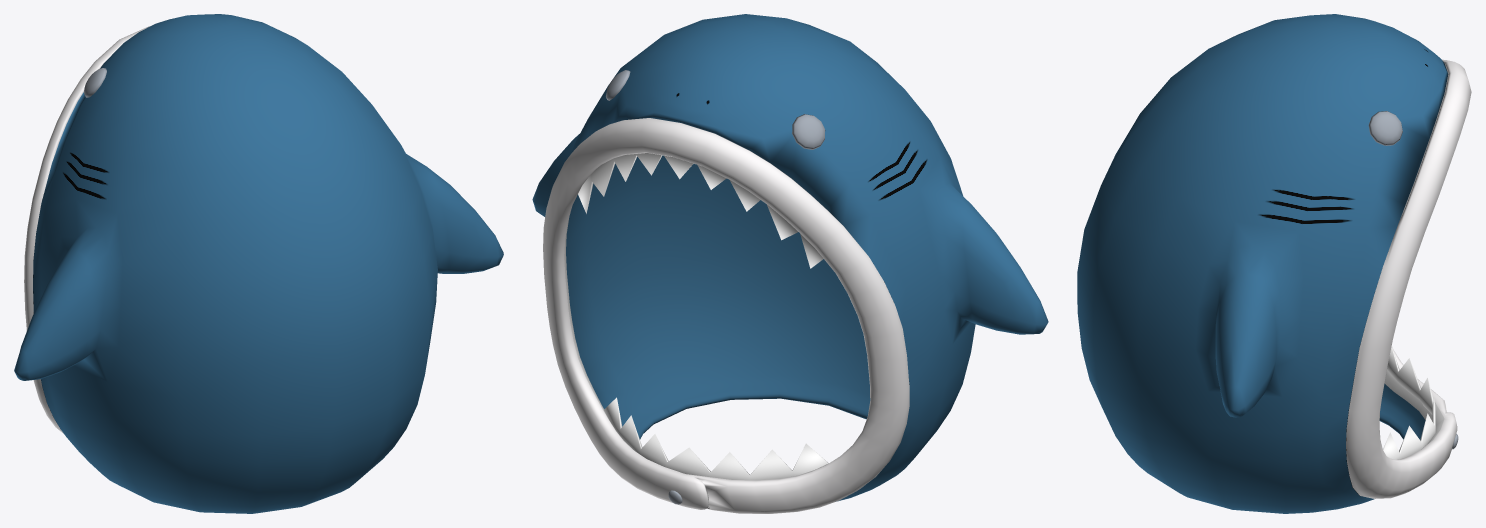
The model's file is tiburon.obj.
The picture shows the model from 3 angles, left to right: view 1: azimuth 30°, elevation 25°; view 2: azimuth 150°, elevation 25°; view 3: azimuth 270°, elevation 25°; orthographic projection. The views are drawn at different scales.
Parts seen in each view (by area): view 1: hood:Mesh; view 2: hood:Mesh; view 3: hood:Mesh.
Boxes of the visible parts, x1=… form: hood:Mesh: x1=14, y1=14, x2=503, y2=513; hood:Mesh: x1=532, y1=14, x2=1048, y2=513; hood:Mesh: x1=1077, y1=14, x2=1471, y2=513.
Size of the model in its own units: 9.19 by 7.46 by 6.22.
1 material, 1 textured.
